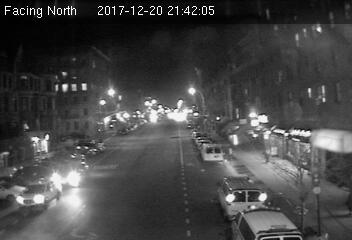car: (16, 177, 64, 210), (52, 160, 89, 184)
police: (228, 201, 303, 240), (213, 172, 271, 222)
truck: (200, 144, 223, 163)
